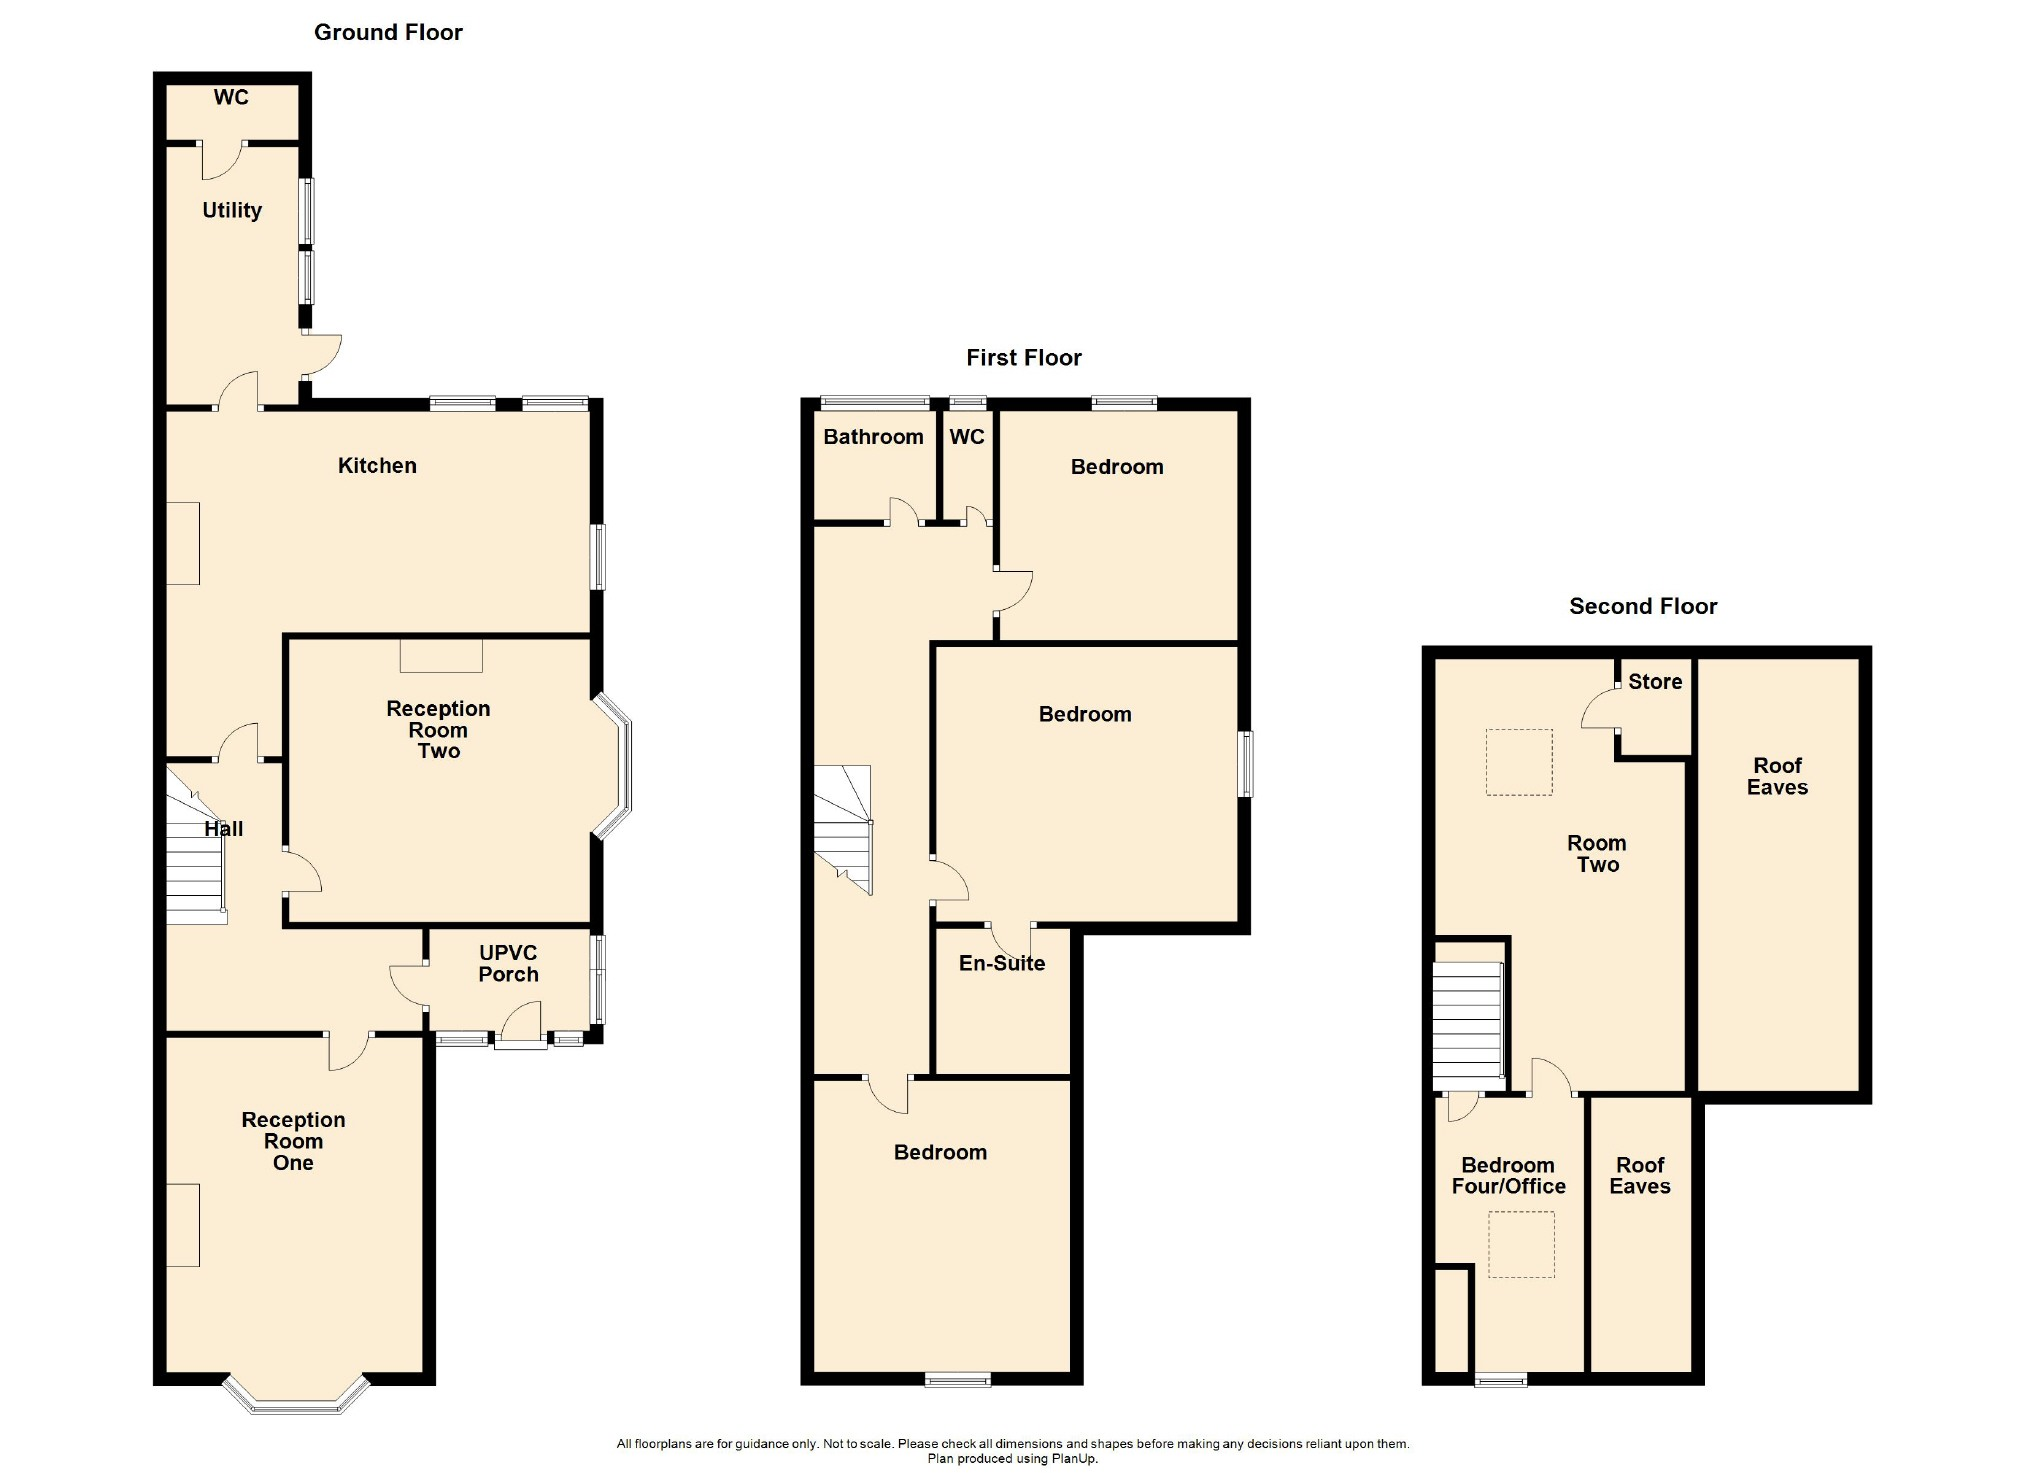door: (197, 145, 245, 186), (1530, 1052, 1578, 1093), (217, 714, 264, 755), (311, 332, 355, 374), (219, 365, 264, 404), (497, 994, 544, 1030), (1575, 689, 1616, 729), (325, 1039, 371, 1075), (940, 858, 975, 905), (1000, 568, 1038, 610), (869, 1085, 910, 1122), (384, 961, 421, 1001), (289, 854, 327, 894), (990, 929, 1035, 964), (887, 494, 920, 520), (1443, 1100, 1475, 1126), (965, 501, 987, 520)
